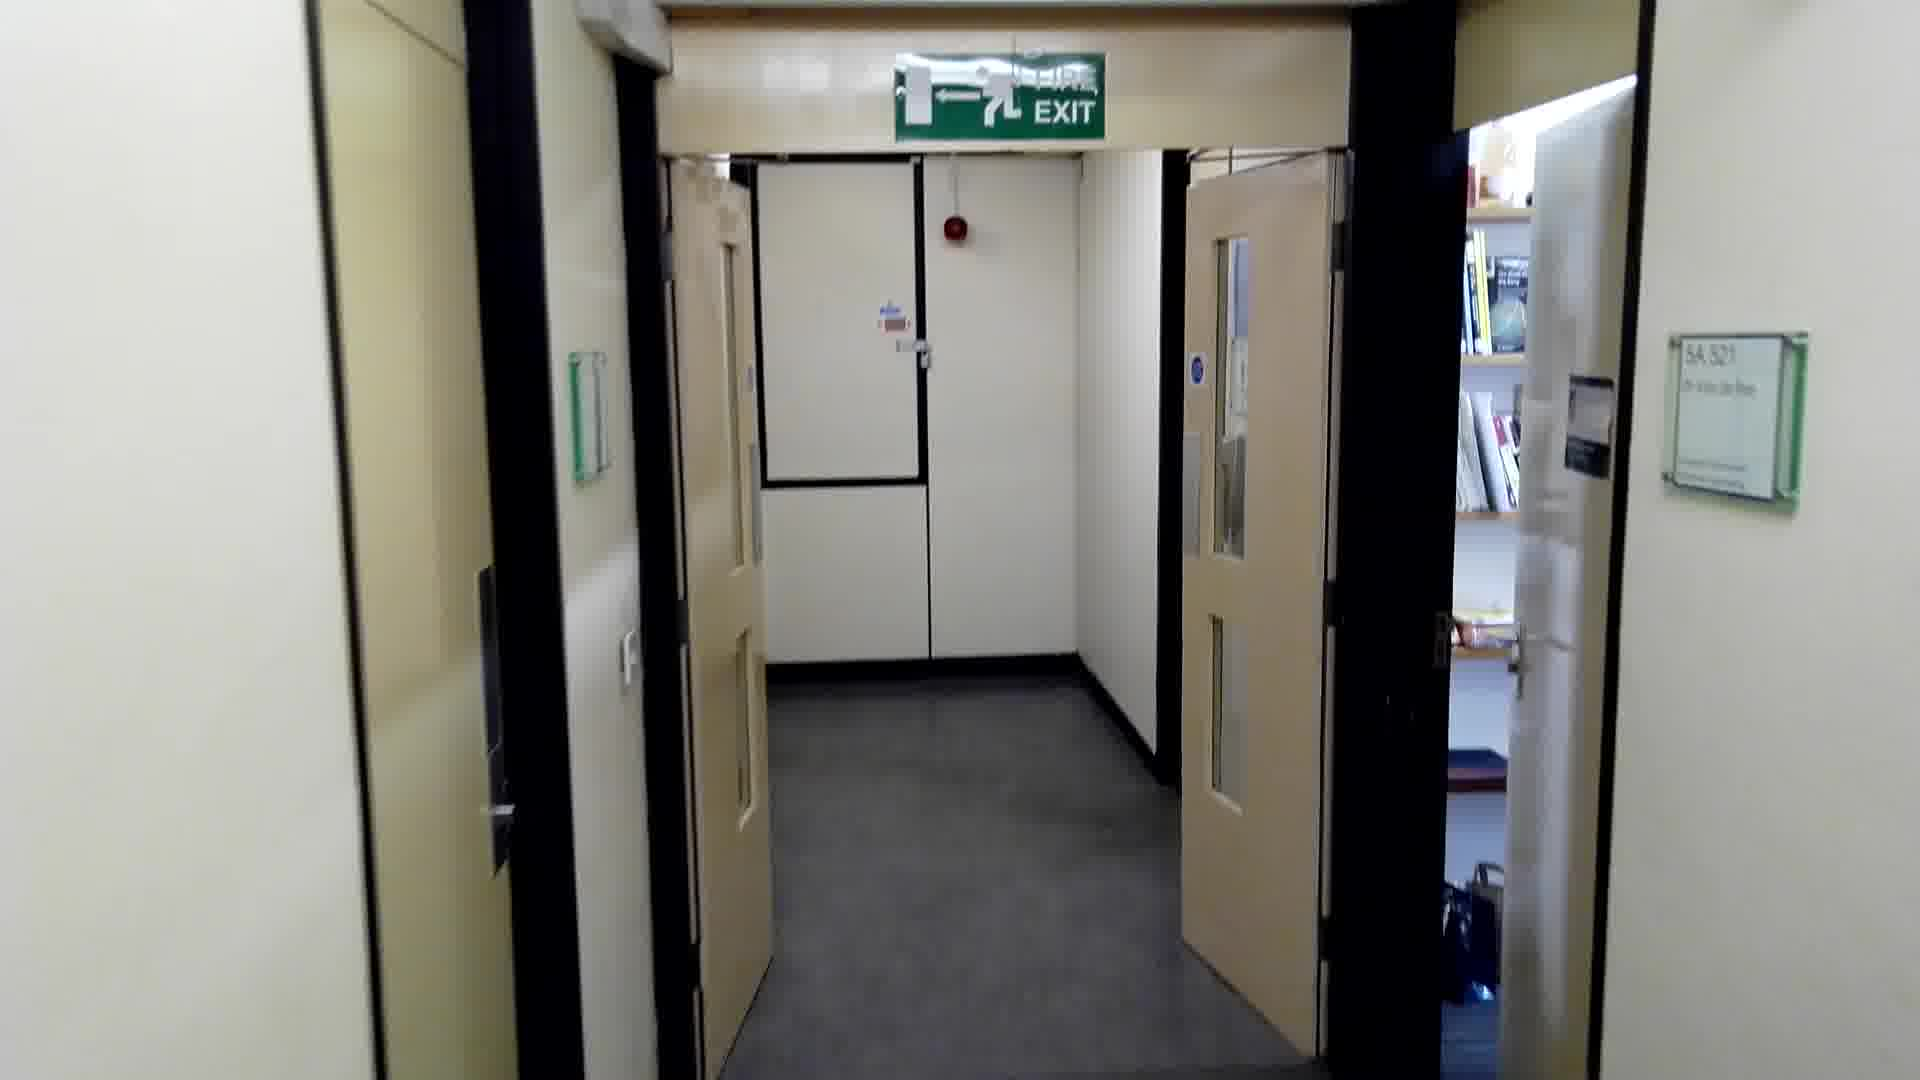Door: (301, 3, 601, 1080), (1160, 138, 1342, 1080), (642, 138, 800, 1080)
